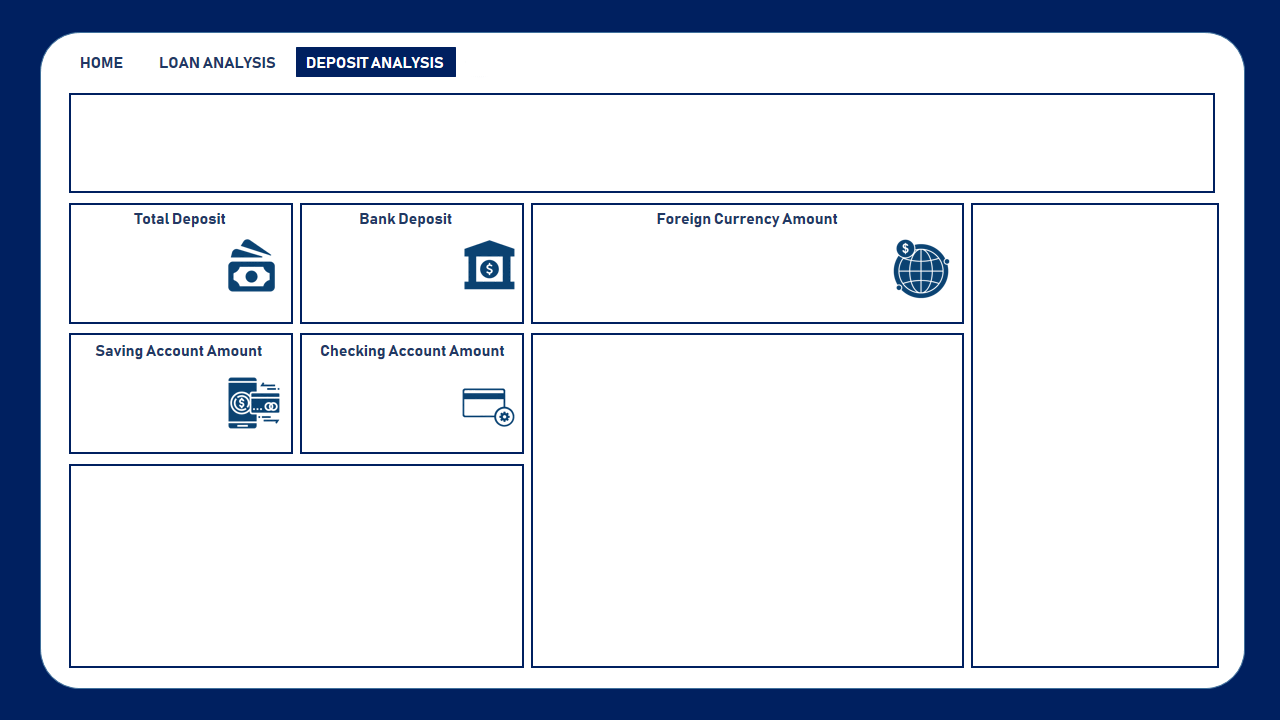

The dashboard page shown, as its layout file describes it:
{"tool":"powerbi","page":{"name":"Deposit Analysis","canvas":[1280,720],"ordinal":2},"visuals":[{"type":"cardVisual","fields":{"Data":["Sum(banking_customer.Bank Deposits)"]},"box":[315.2,204,179.2,109.8],"z":0},{"type":"cardVisual","fields":{"Data":["banking_customer.Total Deposit"]},"box":[78.5,204,179.2,109.8],"z":1000},{"type":"cardVisual","fields":{"Data":["Sum(banking_customer.Saving Accounts)"]},"box":[52.3,334.8,196.2,109.8],"z":2000},{"type":"cardVisual","fields":{"Data":["Sum(banking_customer.Checking Accounts)"]},"box":[287.7,334.8,194.9,109.8],"z":3000},{"type":"actionButton","box":[51,37.9,99.4,40.5],"z":4000},{"type":"actionButton","box":[168.7,37.9,99.4,40.5],"z":5000},{"type":"donutChart","title":"Bank Deposits by Loyalty Classification","fields":{"Y":["Sum(banking_customer.Bank Deposits)"],"Category":["banking_customer.Loyalty Classification"]},"box":[78.5,465.6,444.6,201.4],"z":6000},{"type":"clusteredColumnChart","title":"Bank Deposits by Fee","fields":{"Y":["Sum(banking_customer.Bank Deposits)"],"Category":["banking_customer.Fee Structure"]},"box":[970.3,204,262.9,457.7],"z":7000},{"type":"cardVisual","fields":{"Data":["Sum(banking_customer.Foreign Currency Account)"]},"box":[657.8,214.5,179.2,109.8],"z":8000},{"type":"clusteredBarChart","title":"Bank Deposits by Banking Relationship and Nationality","fields":{"Y":["Sum(banking_customer.Bank Deposits)"],"Category":["banking_customer.Nationality"],"Series":["banking-realtionships.Banking Relationship"]},"box":[532.2,334.8,428.9,326.9],"z":9000},{"type":"slicer","fields":{"Values":["banking_customer.Joined Bank.Variation.Date Hierarchy.Year"]},"box":[78.5,95.5,1132.5,87.6],"z":10000}]}

Visuals, with their boxes in screenshot pixels (x1, y1, x2, y2), scaled from the page's 1280x720 canvas onto the 1280x720 screenshot:
cardVisual - Sum(banking_customer.Bank Deposits): bbox=(315, 204, 494, 314)
cardVisual - banking_customer.Total Deposit: bbox=(78, 204, 258, 314)
cardVisual - Sum(banking_customer.Saving Accounts): bbox=(52, 335, 248, 445)
cardVisual - Sum(banking_customer.Checking Accounts): bbox=(288, 335, 483, 445)
actionButton: bbox=(51, 38, 150, 78)
actionButton: bbox=(169, 38, 268, 78)
"Bank Deposits by Loyalty Classification" donutChart: bbox=(78, 466, 523, 667)
"Bank Deposits by Fee" clusteredColumnChart: bbox=(970, 204, 1233, 662)
cardVisual - Sum(banking_customer.Foreign Currency Account): bbox=(658, 214, 837, 324)
"Bank Deposits by Banking Relationship and Nationality" clusteredBarChart: bbox=(532, 335, 961, 662)
slicer - banking_customer.Joined Bank.Variation.Date Hierarchy.Year: bbox=(78, 96, 1211, 183)
